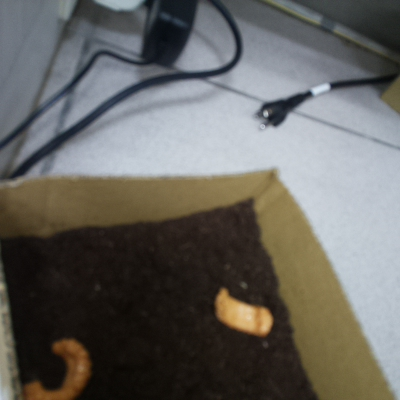eggs: (16, 334, 95, 400), (210, 280, 279, 340)
